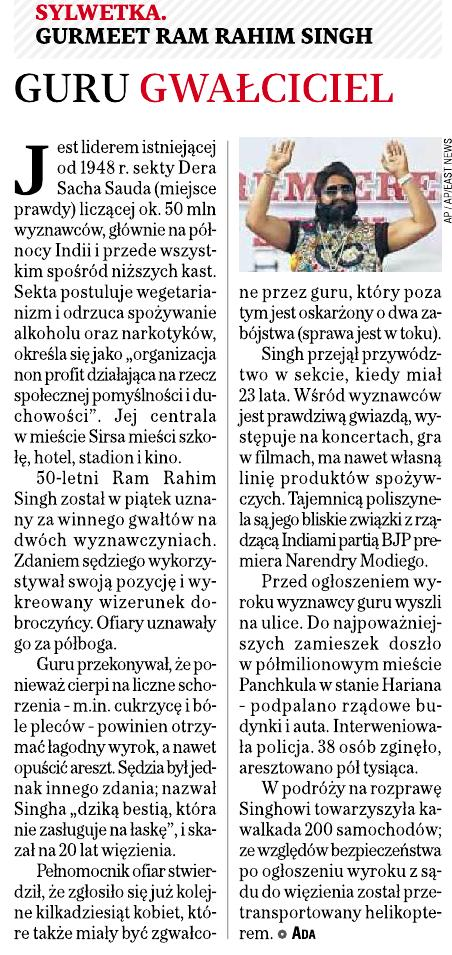body: (8, 129, 224, 949), (235, 281, 452, 946)
image: (233, 128, 446, 275)
title: (13, 1, 400, 110)
